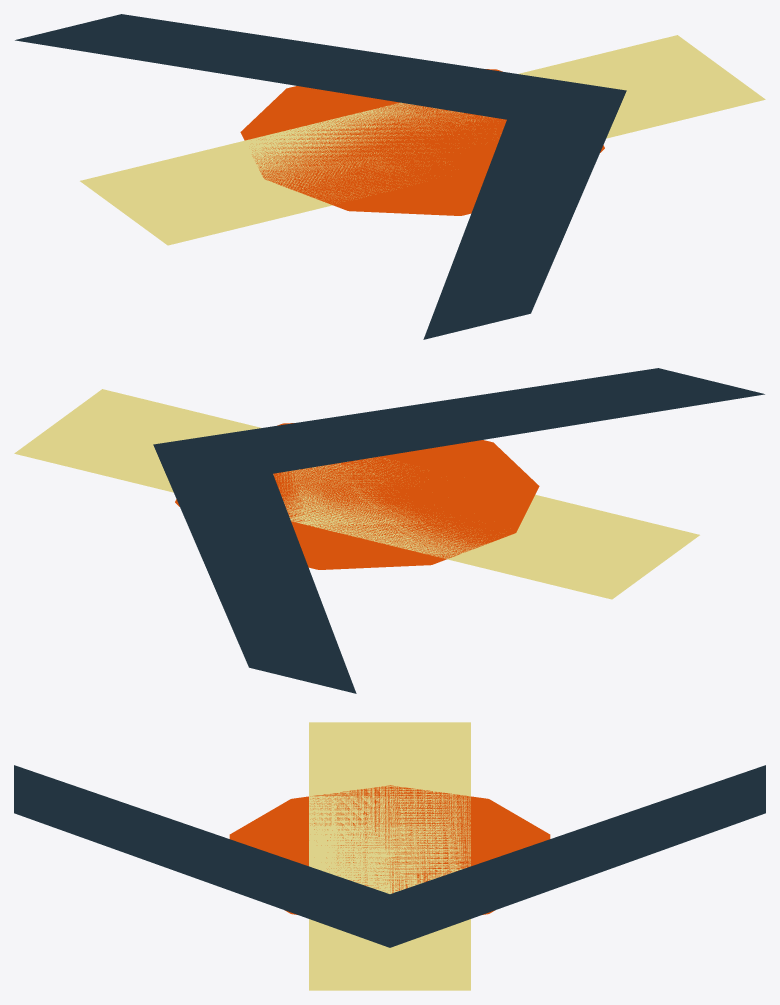
File: decorations.FBX
3 renders of one model, top to bottom at view 1: azimuth 30°, elevation 25°; view 2: azimuth 150°, elevation 25°; view 3: azimuth 270°, elevation 25°, orthographic. The views are drawn at different scales.
Visible parts, largest first — view 1: deco_1, deco_2, deco_3; view 2: deco_1, deco_2, deco_3; view 3: deco_1, deco_2, deco_3.
Part boxes in pixels (box(x1,y1,x2,y2)): deco_1: box(15, 14, 626, 339); deco_2: box(80, 35, 765, 245); deco_3: box(240, 69, 604, 215); deco_1: box(153, 368, 764, 693); deco_2: box(14, 389, 699, 599); deco_3: box(175, 423, 539, 569); deco_1: box(14, 765, 765, 947); deco_2: box(309, 722, 470, 990); deco_3: box(229, 785, 550, 914).
Size of the model in its own units: 8.44 by 6.71e-07 by 10.
